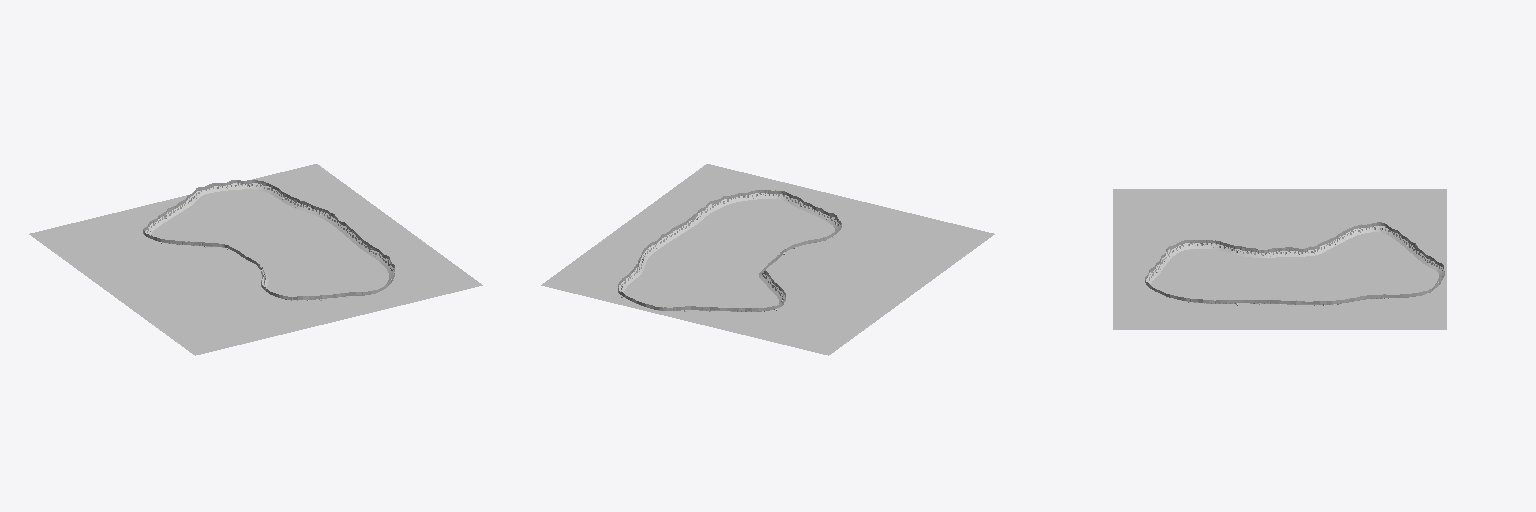
The picture shows the model from 3 angles: view 1: azimuth 30°, elevation 25°; view 2: azimuth 150°, elevation 25°; view 3: azimuth 270°, elevation 25°; orthographic projection.
Visible parts, largest first — view 1: Plane, Wall_08; view 2: Plane, Wall_02; view 3: Plane.
Boxes of the visible parts, box(x1,y1,x2,y2) form: Plane: box(29, 164, 482, 355); Wall_08: box(199, 179, 278, 195); Plane: box(541, 164, 994, 355); Wall_02: box(739, 190, 810, 211); Plane: box(1113, 189, 1446, 329).
Bounding box in the file's own units: 1400 × 34.54 × 1400.